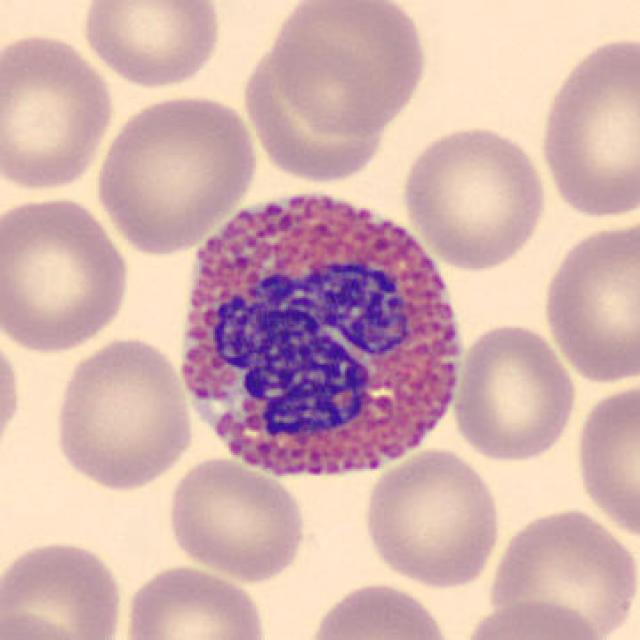Eosinophil: (160, 164, 480, 495)
RBC: (91, 90, 261, 256), (48, 333, 196, 494), (396, 120, 550, 271), (267, 0, 432, 138), (0, 192, 135, 356), (359, 446, 505, 591), (484, 502, 638, 638), (242, 45, 389, 183), (535, 30, 638, 226), (0, 28, 117, 195), (163, 455, 310, 583), (450, 321, 580, 465), (539, 217, 638, 388), (76, 0, 228, 90), (0, 534, 128, 640), (117, 560, 270, 640), (570, 377, 640, 542), (301, 578, 458, 640), (455, 596, 608, 640), (0, 319, 25, 466), (0, 604, 90, 640)
